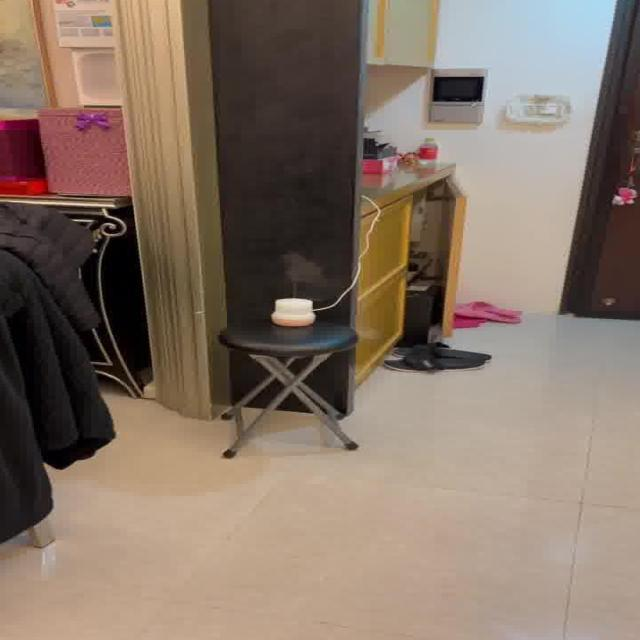fire: (276, 250, 333, 292)
